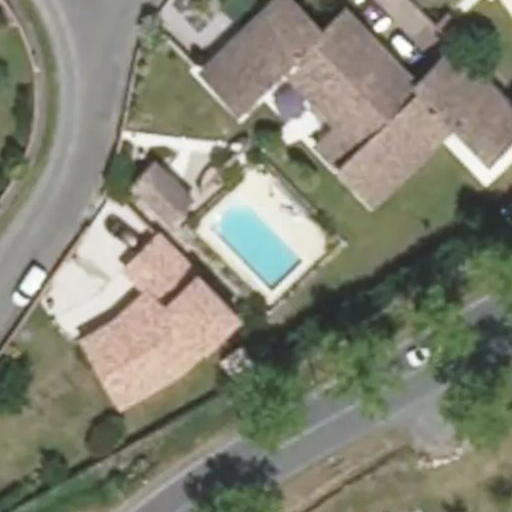pool: (208, 224, 303, 259)
